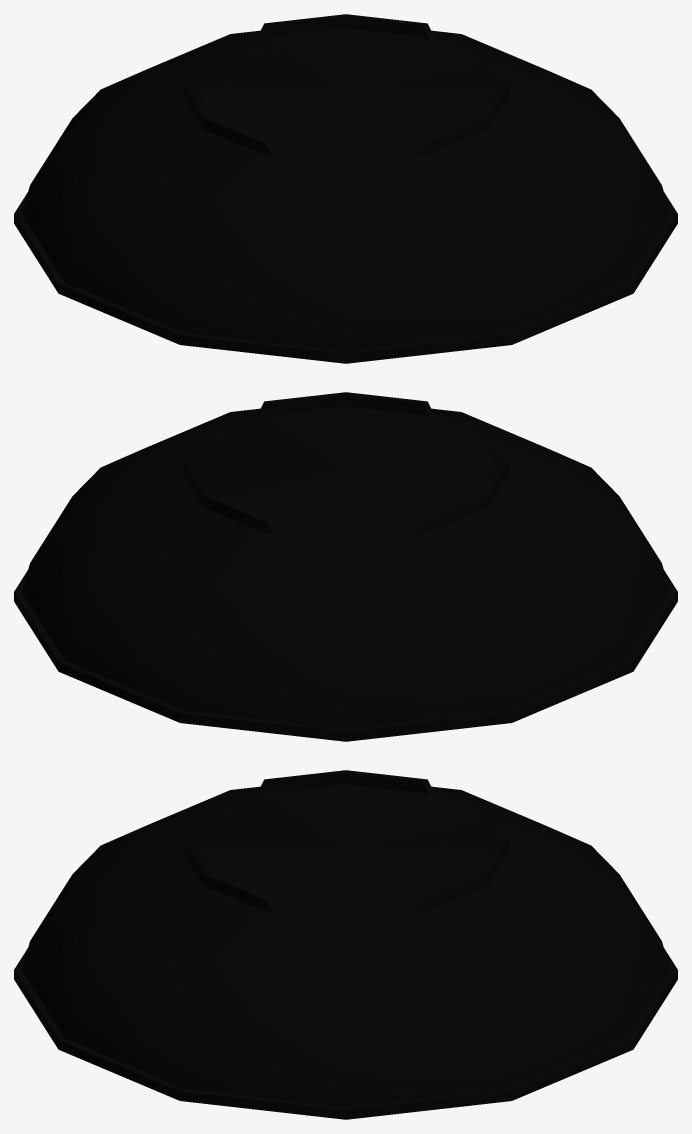
3 views of the same model, one above another, from view 1: azimuth 30°, elevation 25°; view 2: azimuth 150°, elevation 25°; view 3: azimuth 270°, elevation 25° (orthographic).
Parts seen in each view (by area): view 1: Joint_0_Object_0; view 2: Joint_0_Object_0; view 3: Joint_0_Object_0.
Boxes of the visible parts, x1,y1,x2,y2 form: Joint_0_Object_0: (14,14,677,363); Joint_0_Object_0: (14,392,677,741); Joint_0_Object_0: (14,770,677,1119).
Bounding box in the file's own units: 508 × 120 × 508.
Materials: 1 (1 with a texture image).
